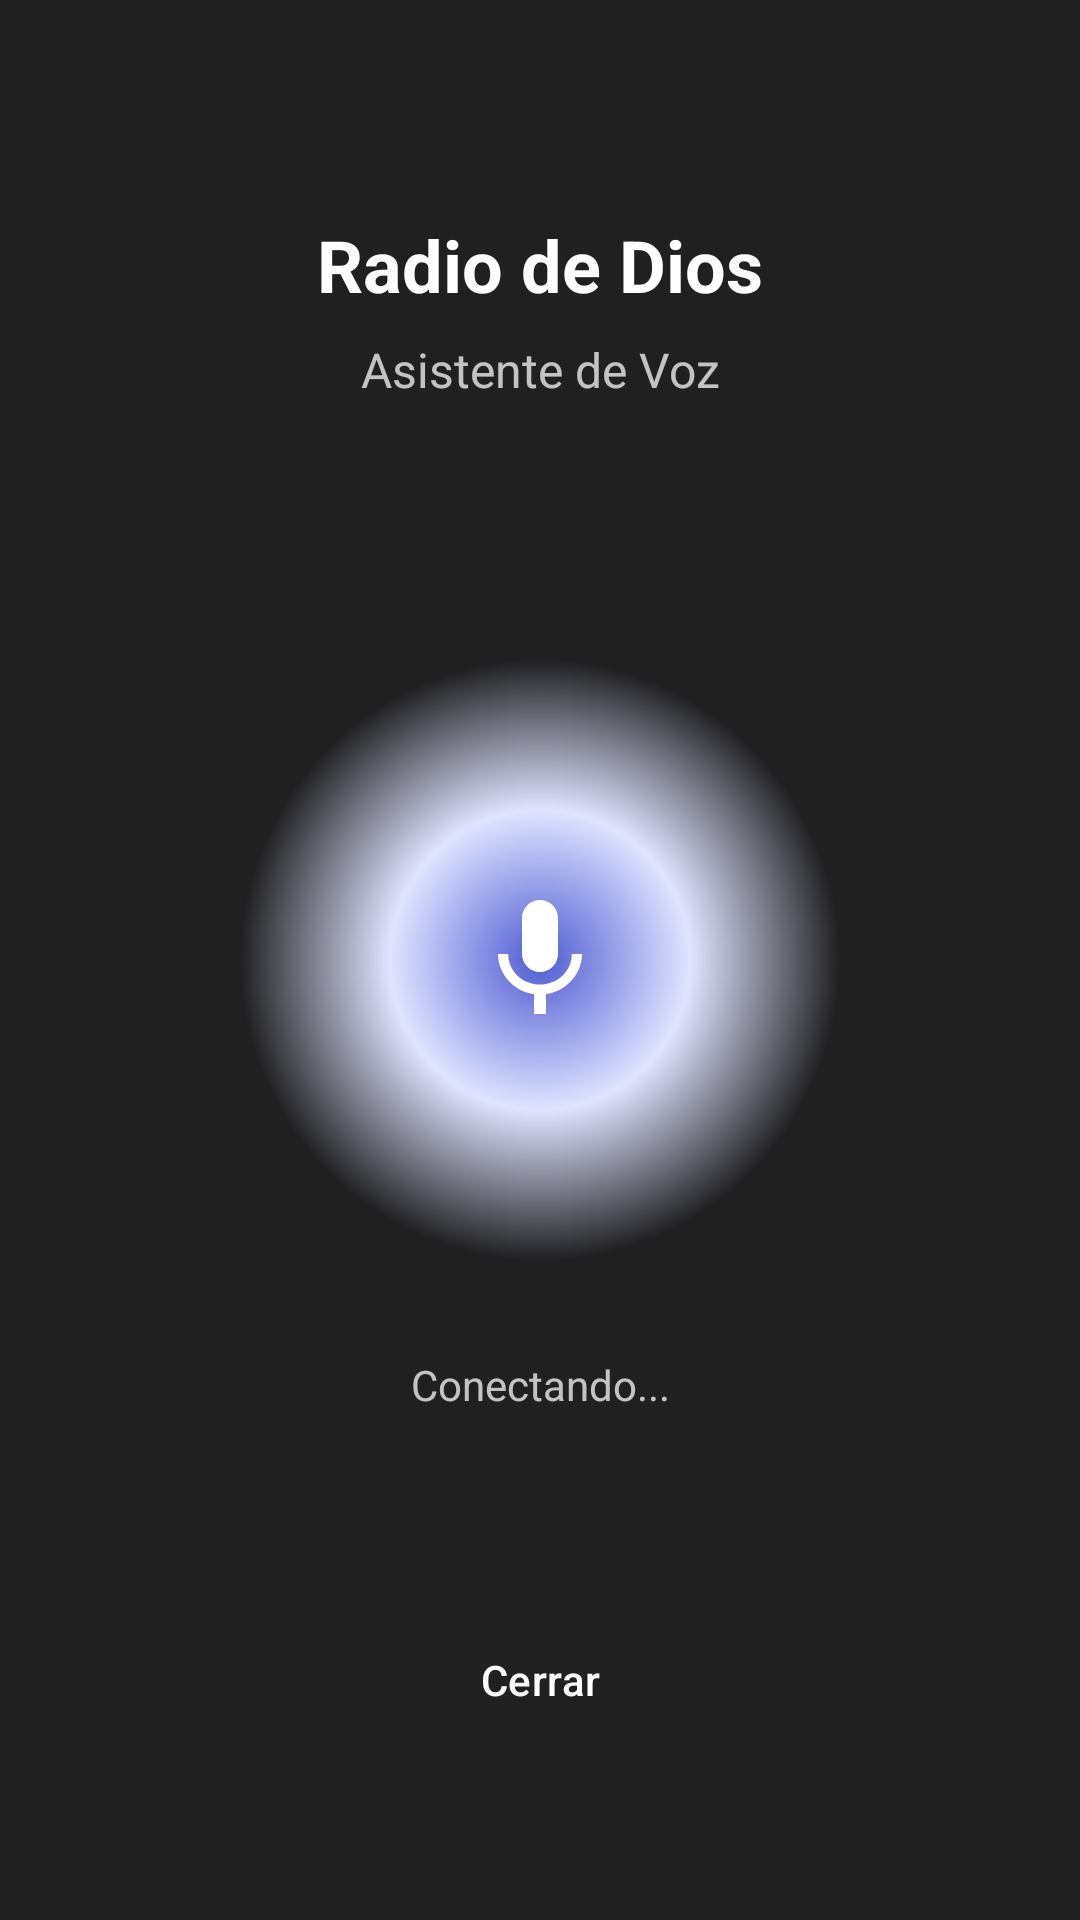

Named icons in this screenshot (1080 × 1920) and their centers, (x=x, y=y):
voice agent: (x=540, y=957)
